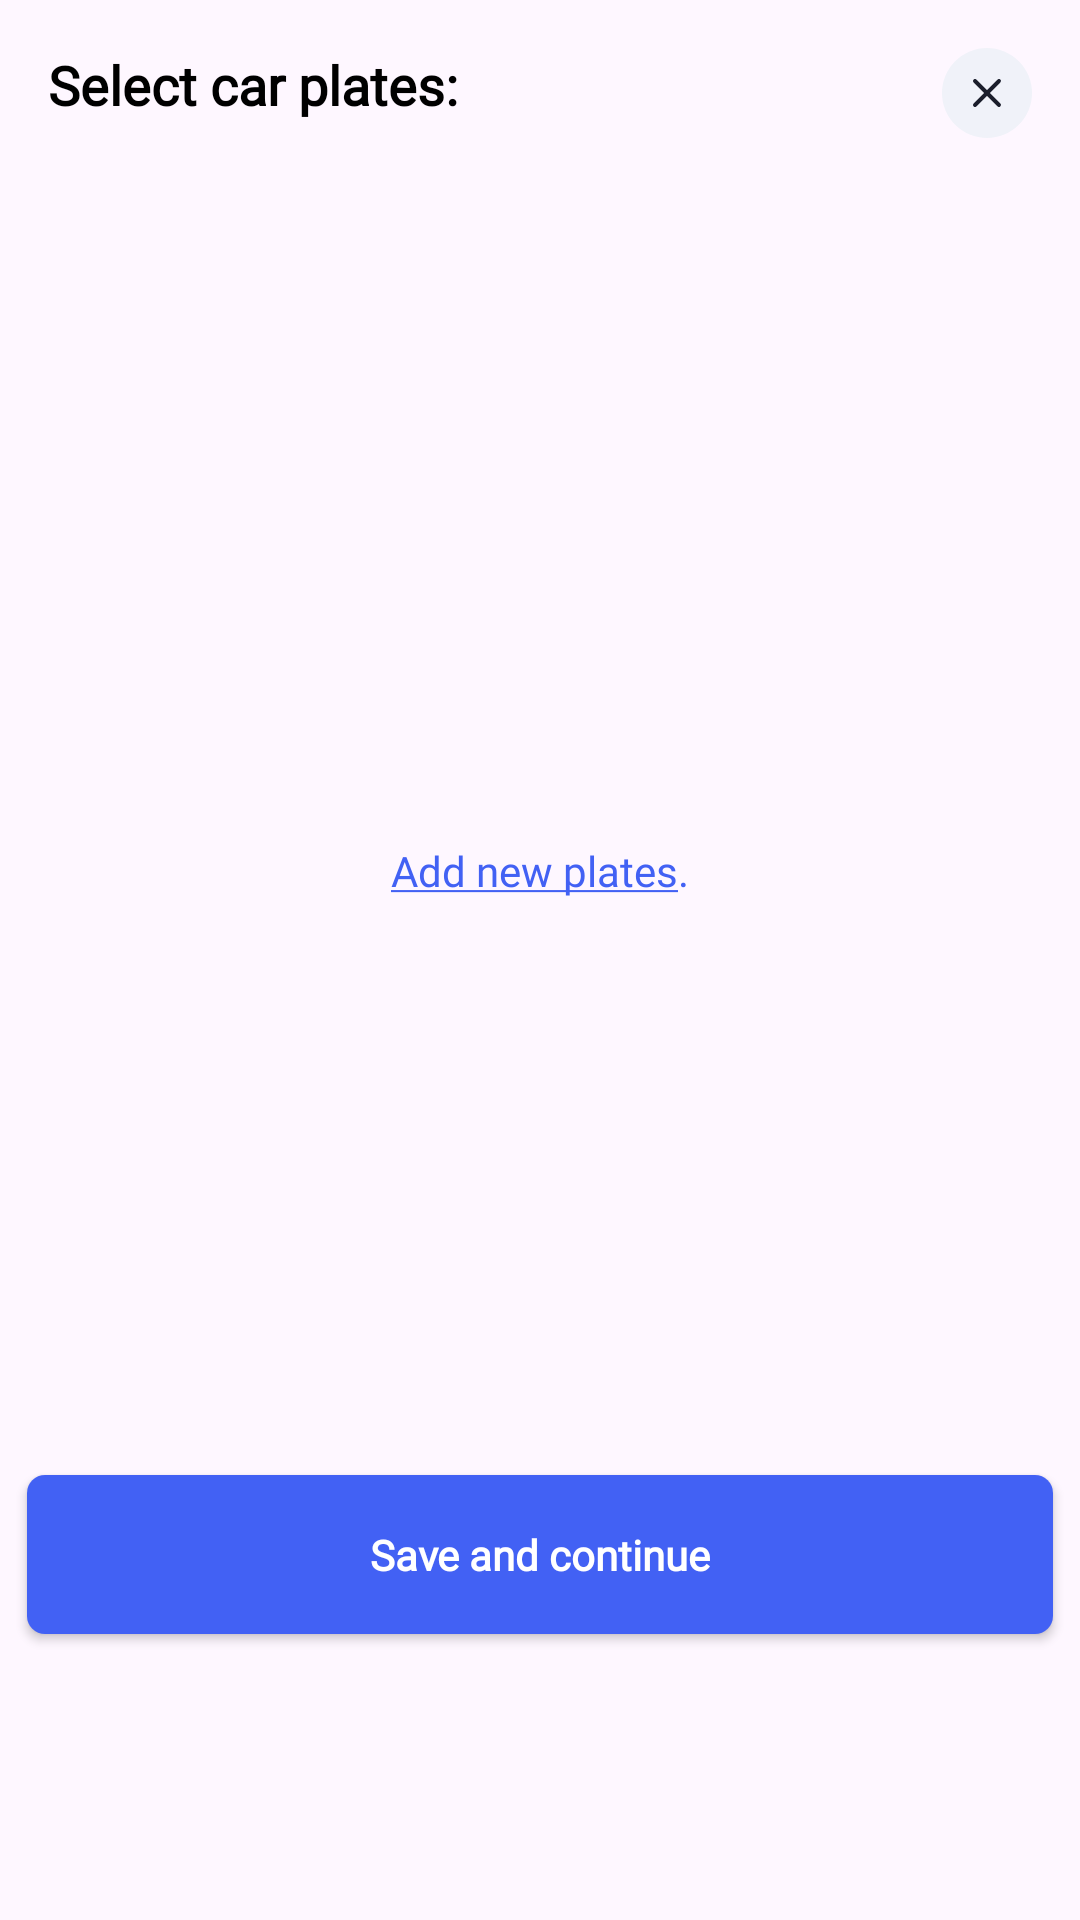

Icon bounding boxes for this 1080*1920 phone screenshot, format (left=x1, top=y1, right=x2, bottom=y2):
close: (left=942, top=48, right=1032, bottom=138)
